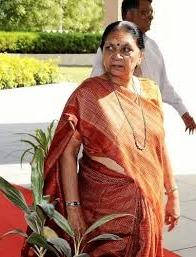Human: (62, 19, 164, 253)
